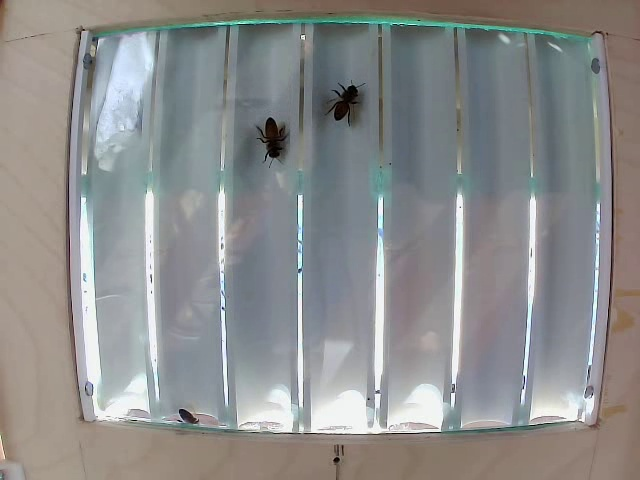bee: (254, 116, 300, 162), (330, 85, 361, 132)
